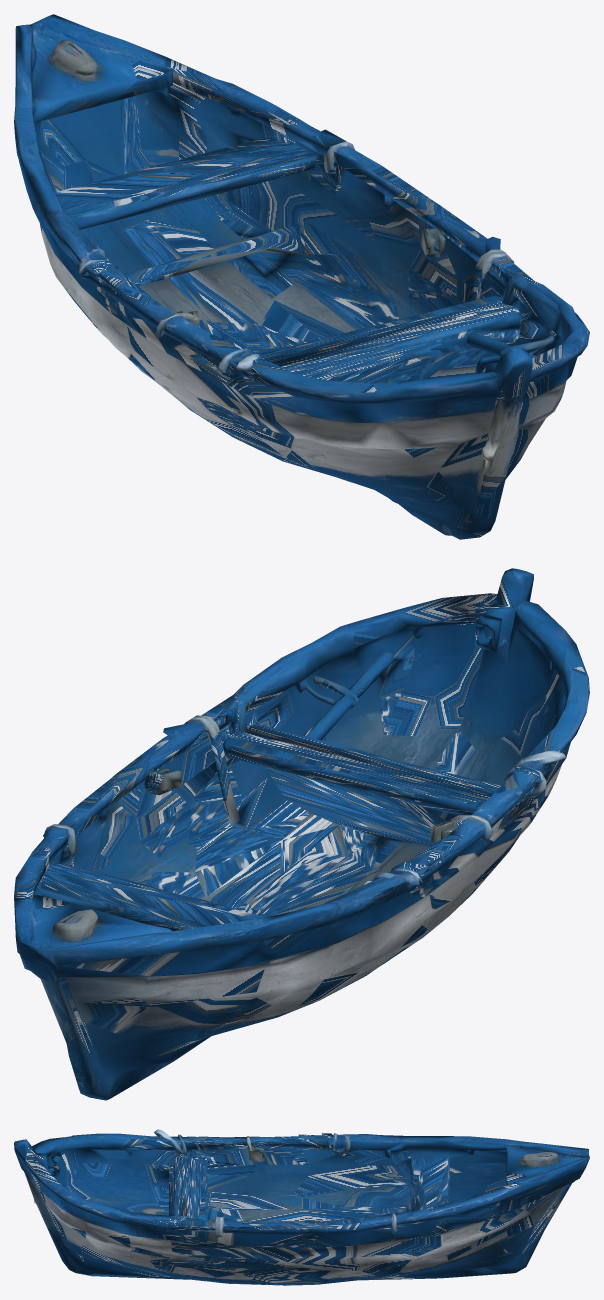
File: canoe.glb
3 views of the same model, one above another, from view 1: azimuth 30°, elevation 25°; view 2: azimuth 150°, elevation 25°; view 3: azimuth 270°, elevation 25° (orthographic). The views are drawn at different scales.
Parts seen in each view (by area): view 1: tripo_node_41b60048-2bbe-4fb3-b9b9-7c25d6fb7c77; view 2: tripo_node_41b60048-2bbe-4fb3-b9b9-7c25d6fb7c77; view 3: tripo_node_41b60048-2bbe-4fb3-b9b9-7c25d6fb7c77.
Part boxes in pixels (x1,y1,x2,y2): tripo_node_41b60048-2bbe-4fb3-b9b9-7c25d6fb7c77: (14,14,589,539); tripo_node_41b60048-2bbe-4fb3-b9b9-7c25d6fb7c77: (14,568,589,1100); tripo_node_41b60048-2bbe-4fb3-b9b9-7c25d6fb7c77: (14,1129,589,1285).
Bounding box in the file's own units: 0.3928 × 0.2587 × 0.9795.
Materials: 1 (1 with a texture image).
